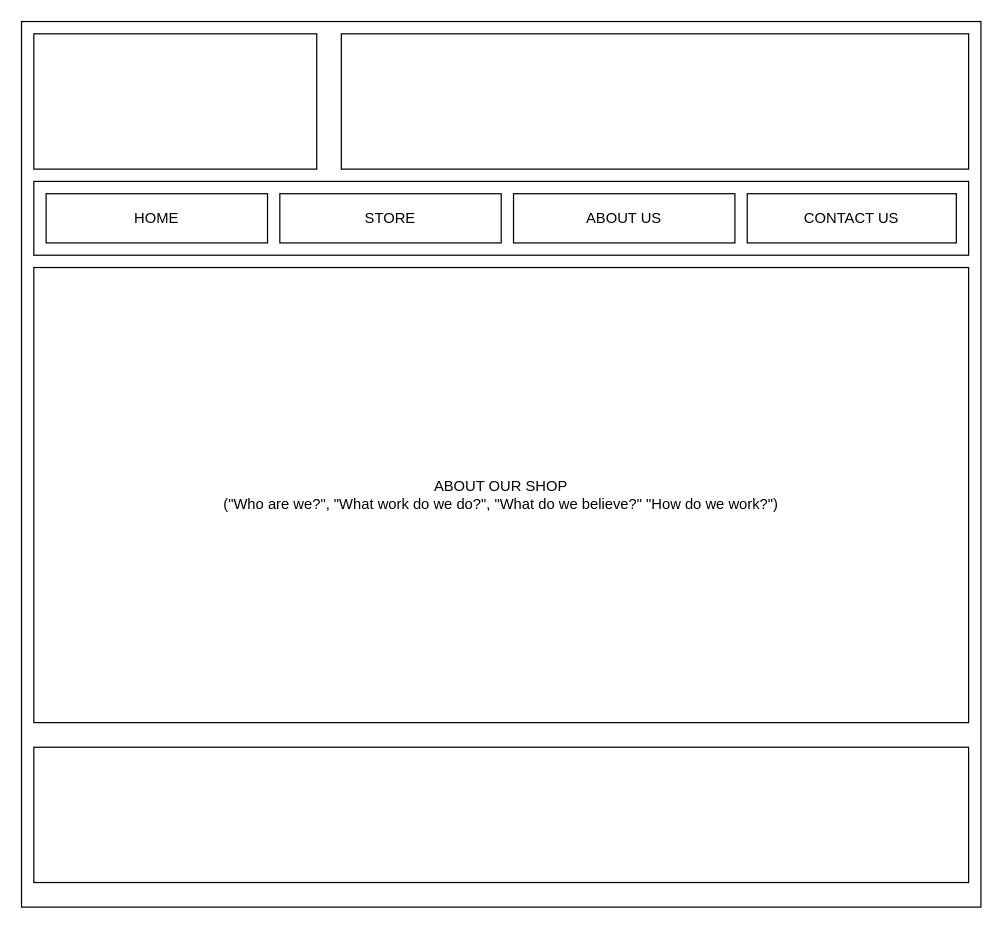
This 1002x929 diagram has some shape labels left out. Each missing label, with the box of its shape:
FOOTER: (33, 746, 969, 883)
LOGO: (33, 33, 317, 169)
SEARCH BAR: (340, 33, 969, 169)
